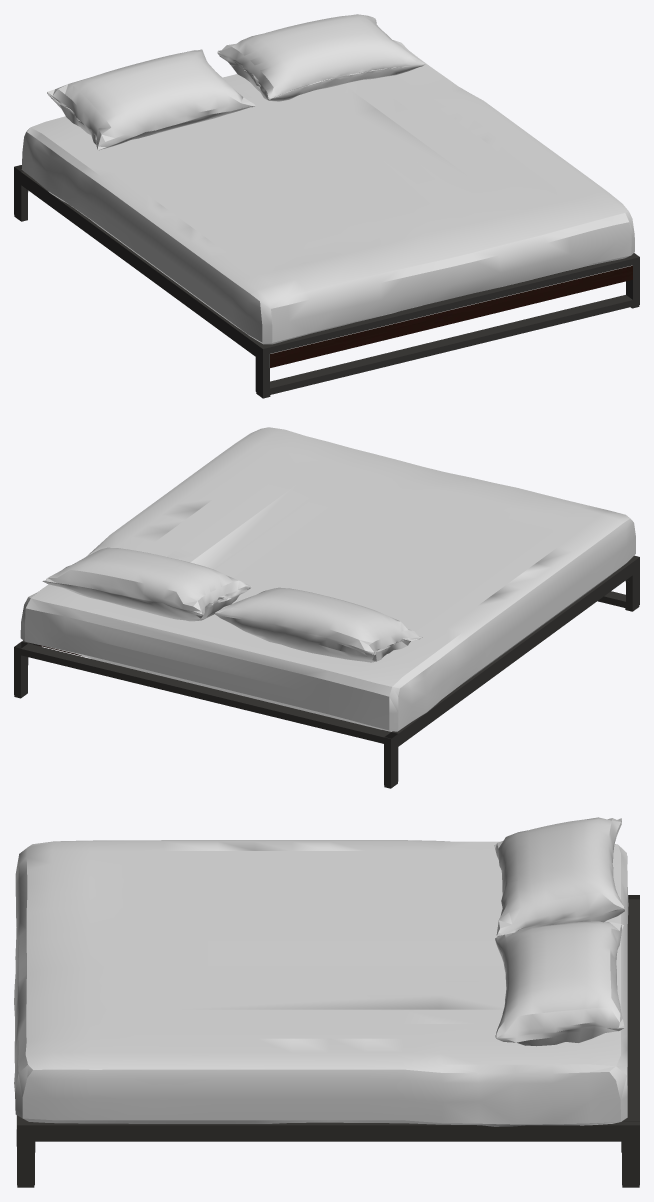
3 renders of one model, top to bottom at view 1: azimuth 30°, elevation 25°; view 2: azimuth 150°, elevation 25°; view 3: azimuth 270°, elevation 25°, orthographic. The views are drawn at different scales.
Visible parts, largest first — view 1: C-skp3161; view 2: C-skp3161; view 3: C-skp3161.
Boxes of the visible parts, <box> form: C-skp3161: <box>14,14,639,398</box>; C-skp3161: <box>14,427,639,788</box>; C-skp3161: <box>14,817,639,1187</box>.
Size of the model in its own units: 1.82 by 0.6468 by 2.07.
Materials: 3 (1 with a texture image).
